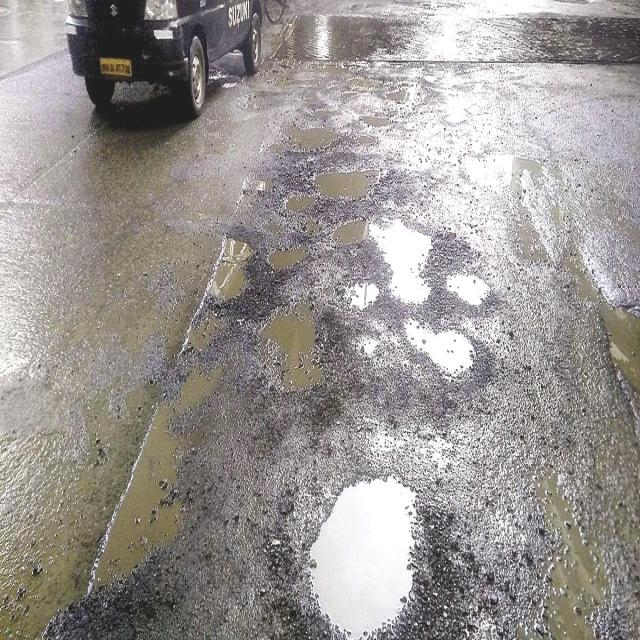pothole: (308, 473, 426, 640), (252, 307, 340, 413), (400, 310, 479, 384), (375, 219, 433, 313), (274, 171, 312, 281), (602, 296, 638, 397), (318, 150, 384, 204), (456, 149, 518, 199), (446, 264, 490, 309), (341, 274, 381, 313), (330, 217, 370, 246)
